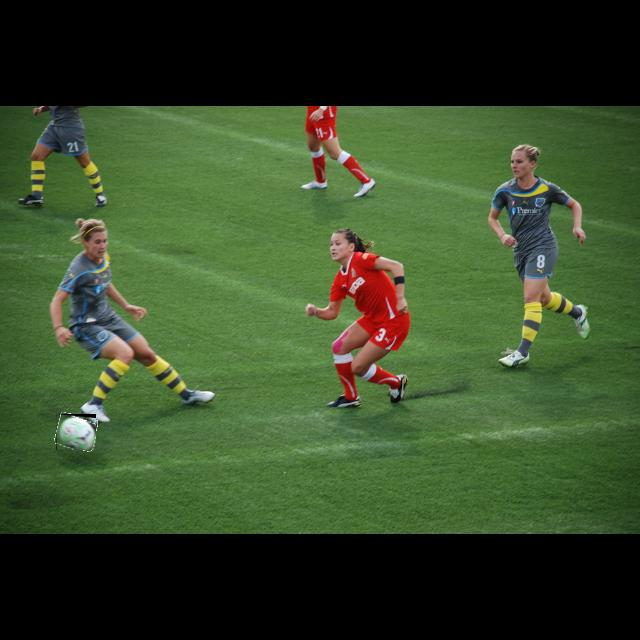Football: (56, 414, 96, 450)
